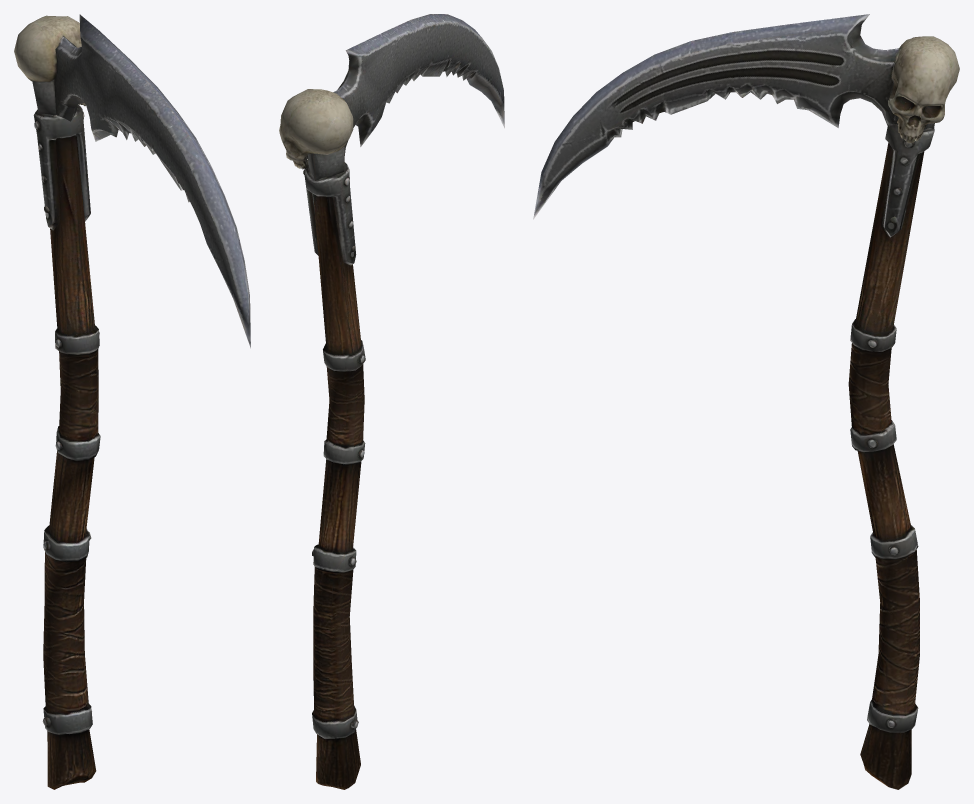
The model's file is necro_wpn_scythe.glb.
3 renders of one model, left to right at view 1: azimuth 30°, elevation 25°; view 2: azimuth 150°, elevation 25°; view 3: azimuth 270°, elevation 25°, orthographic. The views are drawn at different scales.
Visible parts, largest first — view 1: tripo_node_2dedfdcd-fd7d-4892-b258-1adbe2f8ada8; view 2: tripo_node_2dedfdcd-fd7d-4892-b258-1adbe2f8ada8; view 3: tripo_node_2dedfdcd-fd7d-4892-b258-1adbe2f8ada8.
Part boxes in pixels (x1=…): tripo_node_2dedfdcd-fd7d-4892-b258-1adbe2f8ada8: x1=14, y1=14, x2=250, y2=789; tripo_node_2dedfdcd-fd7d-4892-b258-1adbe2f8ada8: x1=279, y1=14, x2=504, y2=789; tripo_node_2dedfdcd-fd7d-4892-b258-1adbe2f8ada8: x1=533, y1=14, x2=959, y2=789.
Size of the model in its own units: 0.0995 by 0.998 by 0.502.
Materials: 1 (1 with a texture image).
